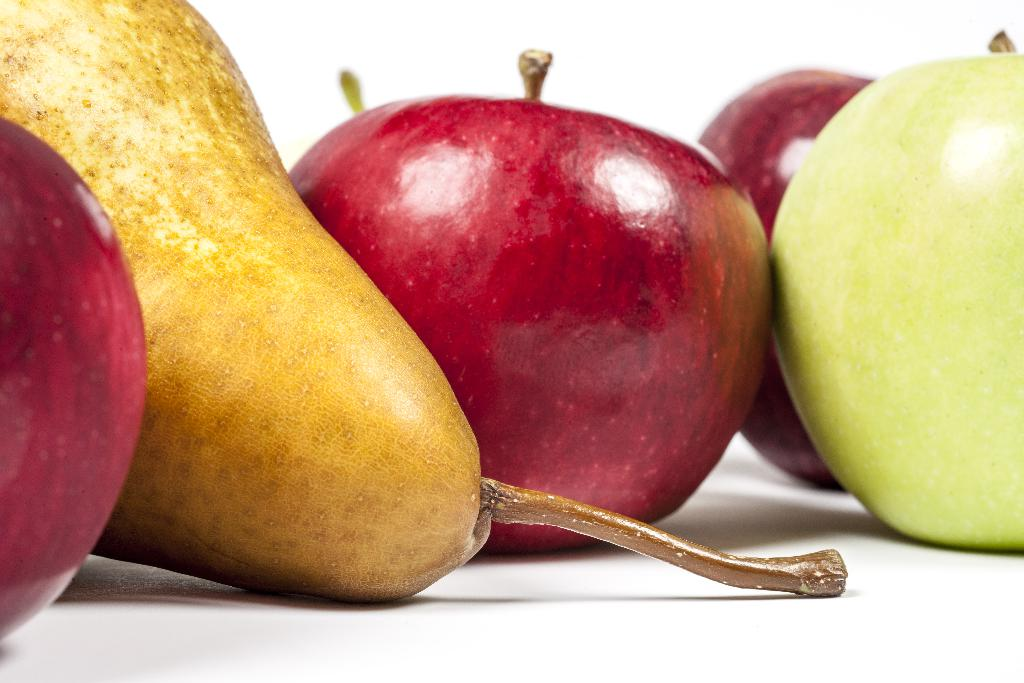Apple: (282, 53, 777, 533), (767, 28, 1023, 552), (692, 62, 872, 489), (0, 117, 147, 639)
